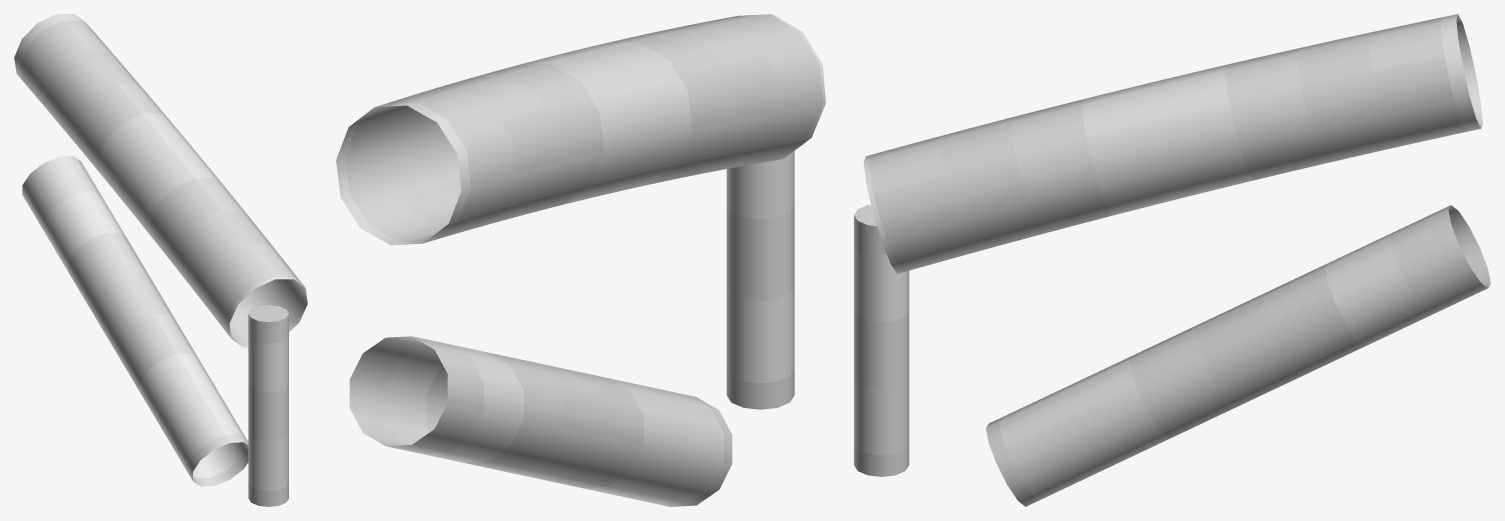
File: luminairearm_truss15ft_c6.obj
3 views of the same model, side by side, from view 1: azimuth 30°, elevation 25°; view 2: azimuth 150°, elevation 25°; view 3: azimuth 270°, elevation 25° (orthographic). The views are drawn at different scales.
Parts seen in each view (by area): view 1: luminairearm_truss15ft_c6; view 2: luminairearm_truss15ft_c6; view 3: luminairearm_truss15ft_c6.
Part boxes in pixels (x1,y1,x2,y2): luminairearm_truss15ft_c6: (14, 14, 307, 506); luminairearm_truss15ft_c6: (336, 14, 825, 506); luminairearm_truss15ft_c6: (854, 14, 1490, 506).
Size of the model in its own units: 0.2083 by 0.9059 by 1.08.
